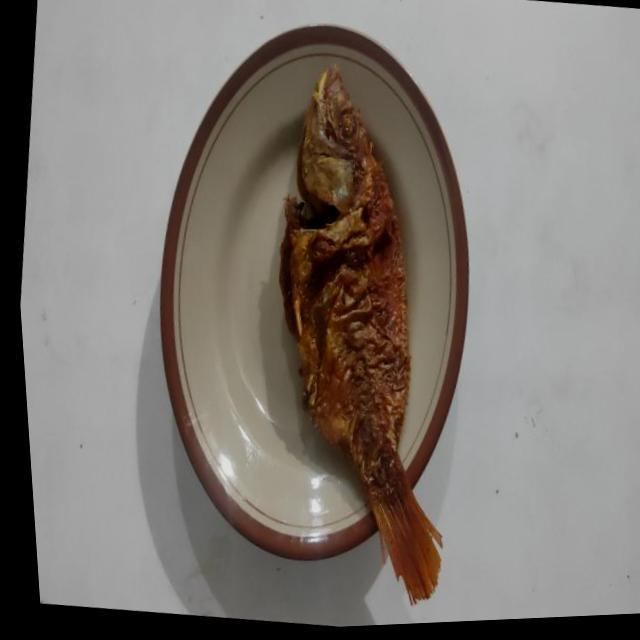ikan_mujair: (279, 65, 441, 602)
